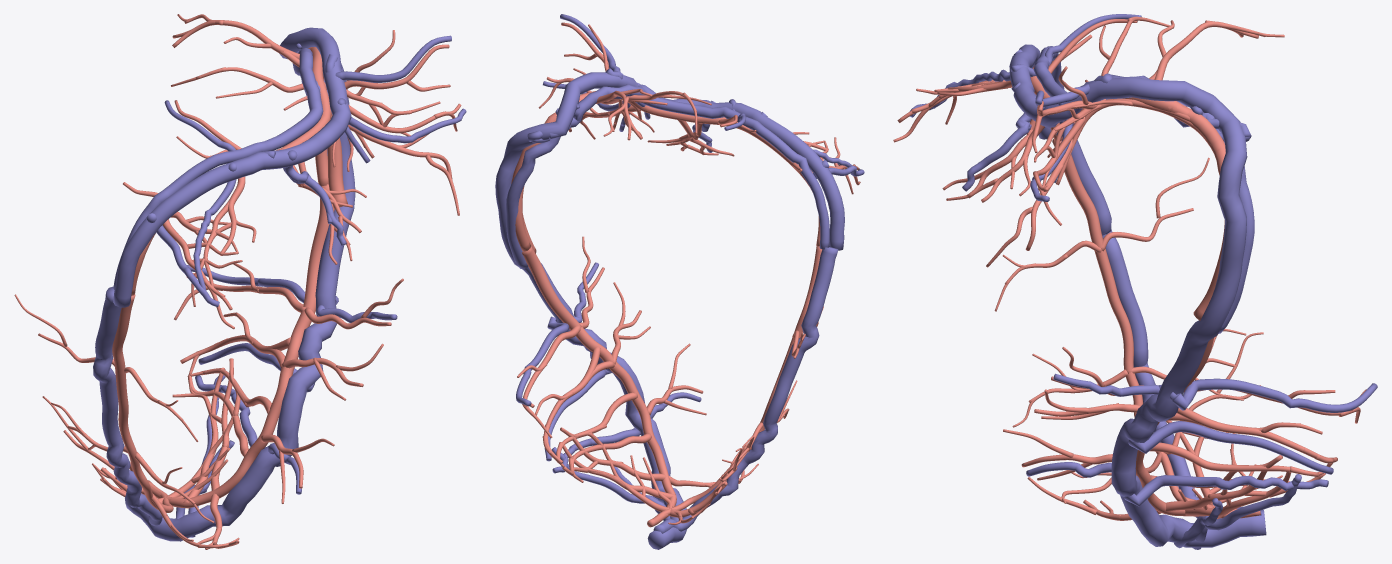
The model's file is vessels_69.glb.
The picture shows the model from 3 angles, left to right: view 1: azimuth 30°, elevation 25°; view 2: azimuth 150°, elevation 25°; view 3: azimuth 270°, elevation 25°; orthographic projection. The views are drawn at different scales.
Visible parts, largest first — view 1: Renderer Node; view 2: Renderer Node; view 3: Renderer Node.
Part boxes in pixels (<box>): Renderer Node: <box>14,14,466,549</box>; Renderer Node: <box>495,14,864,549</box>; Renderer Node: <box>893,14,1377,549</box>.
Size of the model in its own units: 95.15 by 124 by 95.63.
